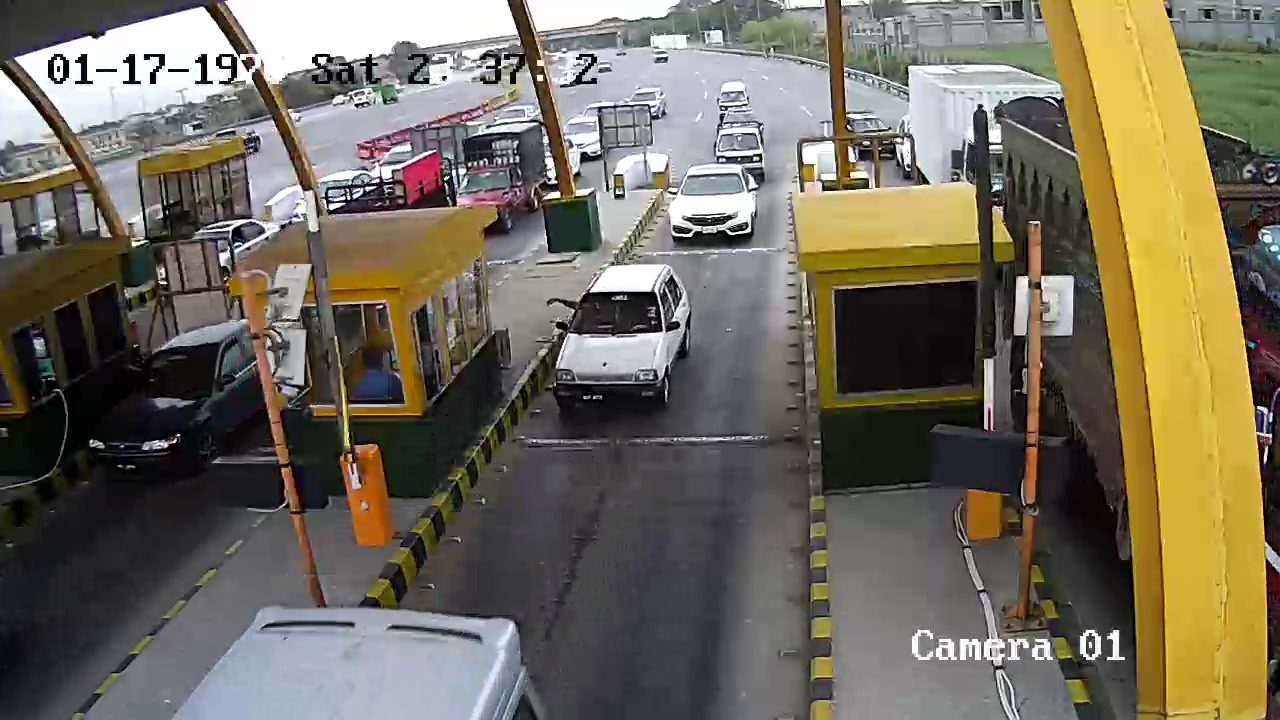F1: (535, 256, 706, 427)
